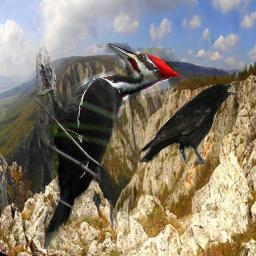Crow: (137, 81, 240, 169)
Woodpecker: (36, 43, 181, 249)
